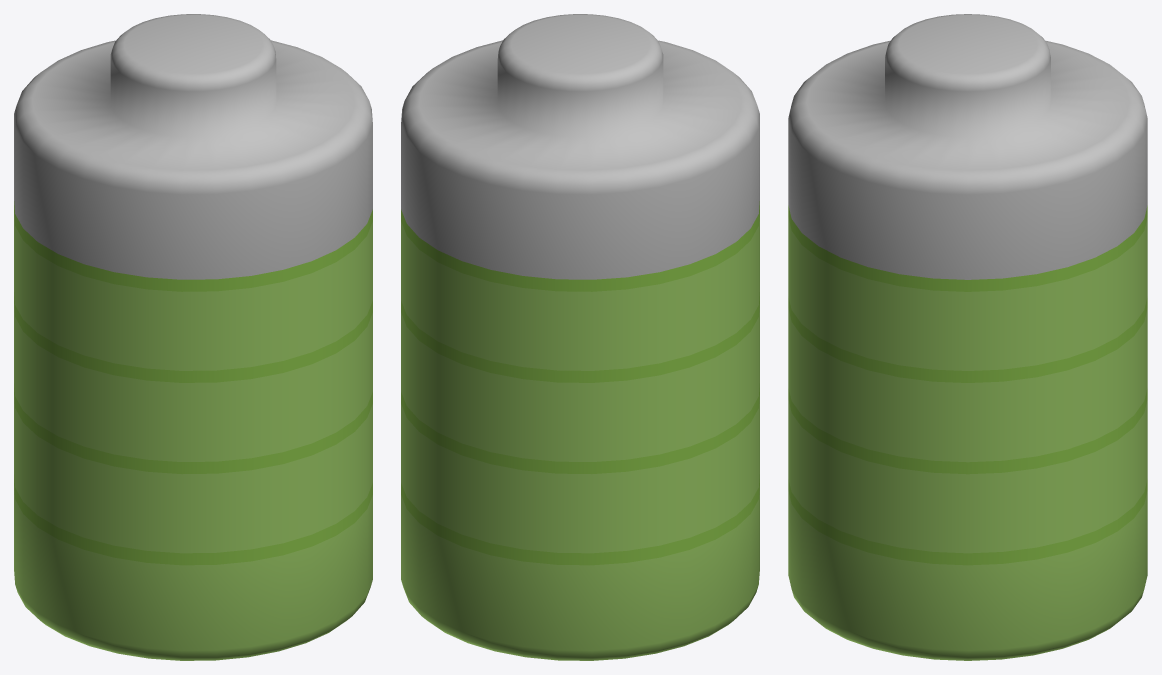
The model's file is battery.glb.
3 renders of one model, left to right at view 1: azimuth 30°, elevation 25°; view 2: azimuth 150°, elevation 25°; view 3: azimuth 270°, elevation 25°, orthographic.
Visible parts, largest first — view 1: Cylinder.497; view 2: Cylinder.497; view 3: Cylinder.497.
Boxes of the visible parts, bbox=[...] form: Cylinder.497: bbox=[14, 14, 372, 660]; Cylinder.497: bbox=[401, 14, 759, 660]; Cylinder.497: bbox=[788, 14, 1147, 660].
Bounding box in the file's own units: 1.25 × 2.09 × 1.25.
1 material, 1 textured.
